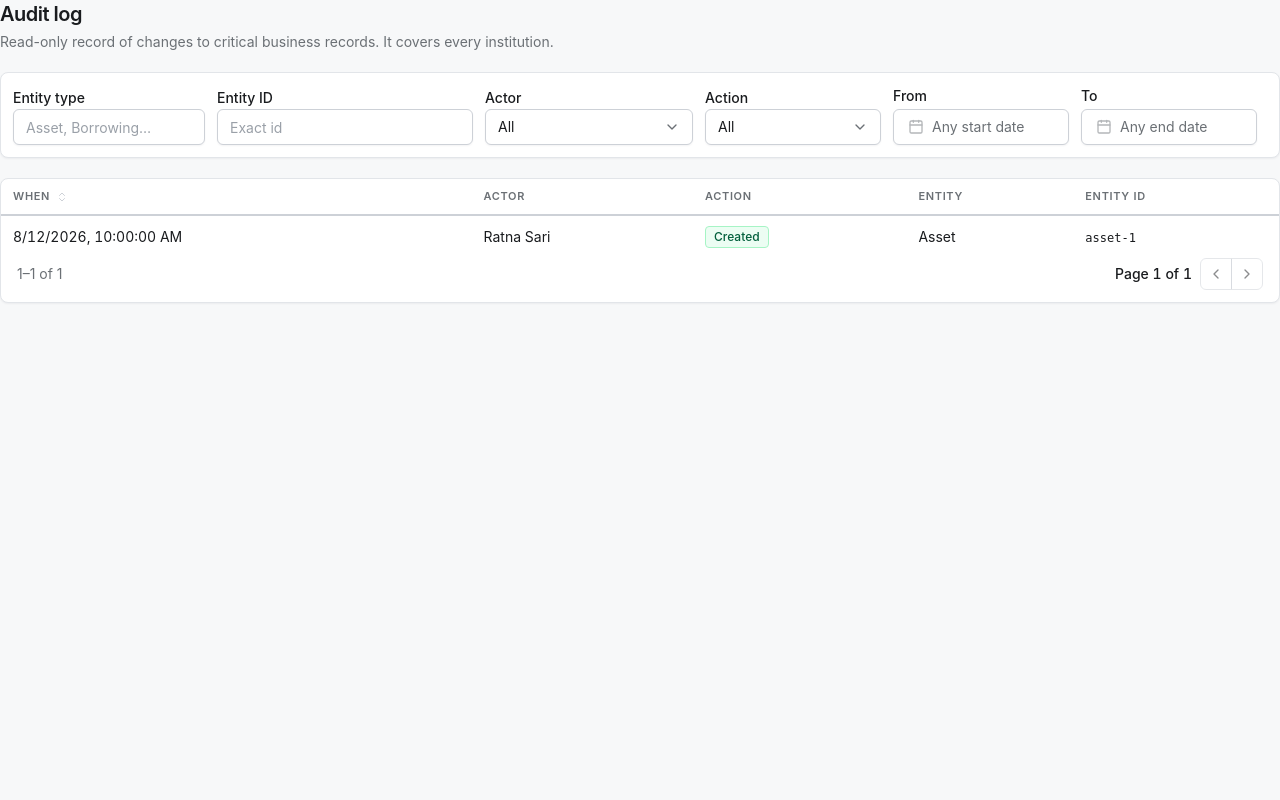
Test case: AuditPage — detail (REQ-AUDIT-002) › renders a CREATE entry that has no previous values
Expected: the text "Asset" is shown, x1=906 y1=215 x2=1073 y2=258
Click the button "8/12/2026, 10:00:00 AM": point(98, 237) x1=13 y1=227 x2=182 y2=247
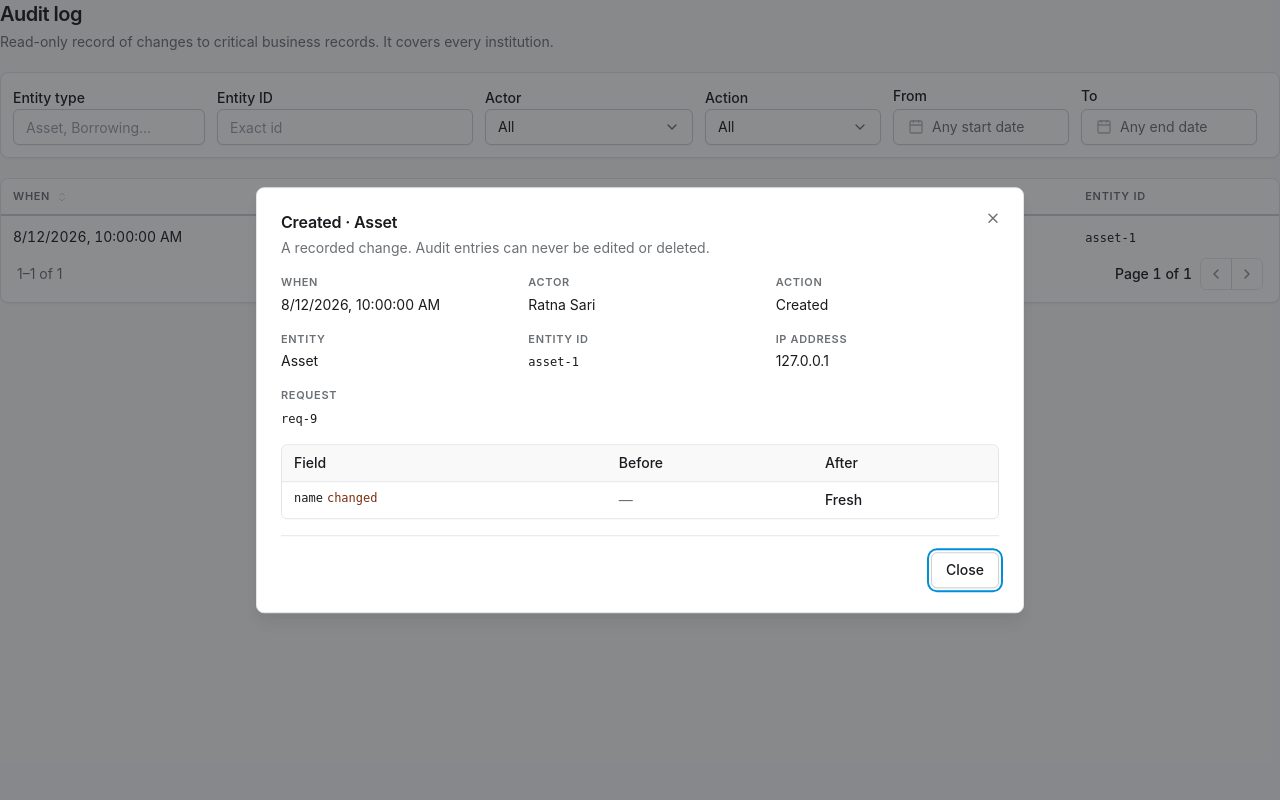
Expected: the text "Fresh" is shown, x1=813 y1=481 x2=998 y2=518
Expected: the text "changed" is shown once, x1=327 y1=491 x2=378 y2=505
